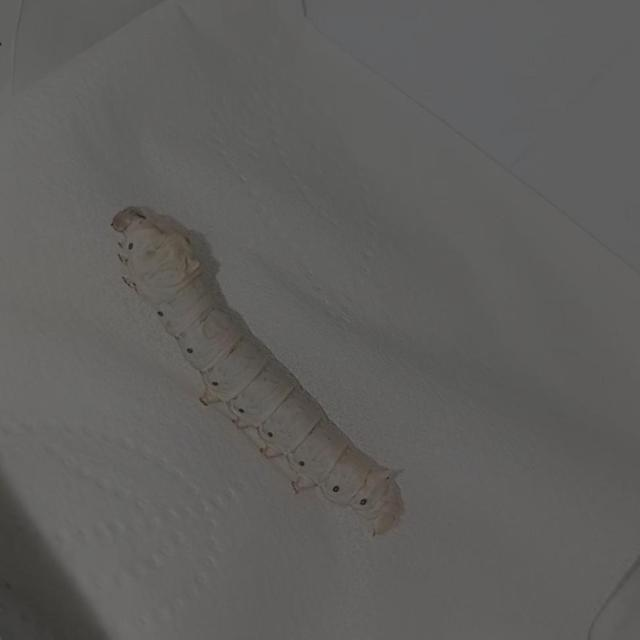Healthy: (104, 195, 411, 538)
